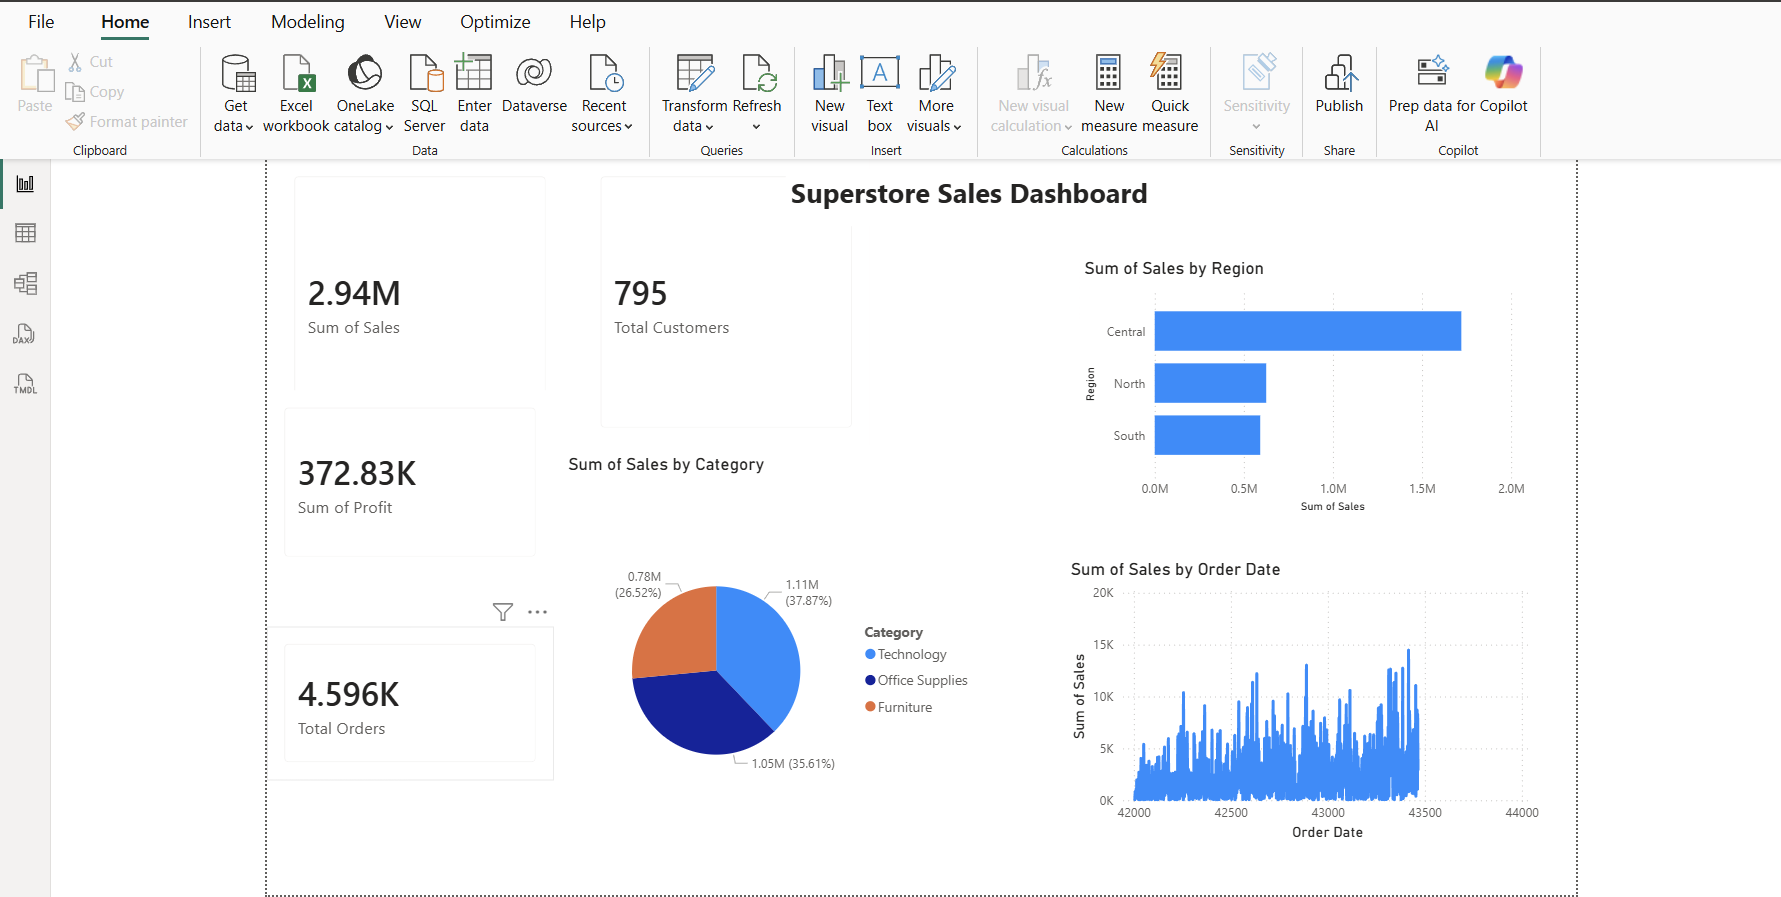

This screenshot's page, from the dashboard's own definition file:
{"tool":"powerbi","page":{"name":"Page 1","canvas":[1280,720],"ordinal":0},"visuals":[{"type":"cardVisual","fields":{"Data":["Sum(Orders.Sales)"]},"box":[10,0,280,280],"z":0},{"type":"cardVisual","fields":{"Data":["Sum(Orders.Profit)"]},"box":[0,225.7,280,180],"z":1000},{"type":"cardVisual","fields":{"Data":["Count(Orders.Order ID)"]},"box":[0,457.1,280,150],"z":2000},{"type":"cardVisual","fields":{"Data":["Count(Orders.Customer ID)"]},"box":[309.4,0,280,280],"z":3000},{"type":"pieChart","fields":{"Category":["Orders.Category"],"Y":["Sum(Orders.Sales)"]},"box":[289.8,288.6,409.6,404.8],"z":4000},{"type":"barChart","fields":{"Category":["Orders.Region"],"Y":["Sum(Orders.Sales)"]},"box":[794.8,96.6,441.4,254.3],"z":5000},{"type":"lineChart","fields":{"Y":["Sum(Orders.Sales)"],"Category":["Orders.Order Date"]},"box":[781.4,391.3,468.3,280],"z":6000},{"type":"textbox","box":[598.6,21.4,350,32.9],"z":7000},{"type":"textbox","box":[507.5,10,441.2,56.2],"z":8000}]}

Visuals, with their boxes on the page's 1280x720 design canvas (x1, y1, x2, y2). These are canvas units, not pixel positions in the 1781x897 screenshot, which may show the page scaled, cropped or inside an application window:
cardVisual - Sum(Orders.Sales): (left=10, top=0, right=290, bottom=280)
cardVisual - Sum(Orders.Profit): (left=0, top=226, right=280, bottom=406)
cardVisual - Count(Orders.Order ID): (left=0, top=457, right=280, bottom=607)
cardVisual - Count(Orders.Customer ID): (left=309, top=0, right=589, bottom=280)
pieChart - Orders.Category x Sum(Orders.Sales): (left=290, top=289, right=699, bottom=693)
barChart - Orders.Region x Sum(Orders.Sales): (left=795, top=97, right=1236, bottom=351)
lineChart - Sum(Orders.Sales) x Orders.Order Date: (left=781, top=391, right=1250, bottom=671)
textbox: (left=599, top=21, right=949, bottom=54)
textbox: (left=508, top=10, right=949, bottom=66)
